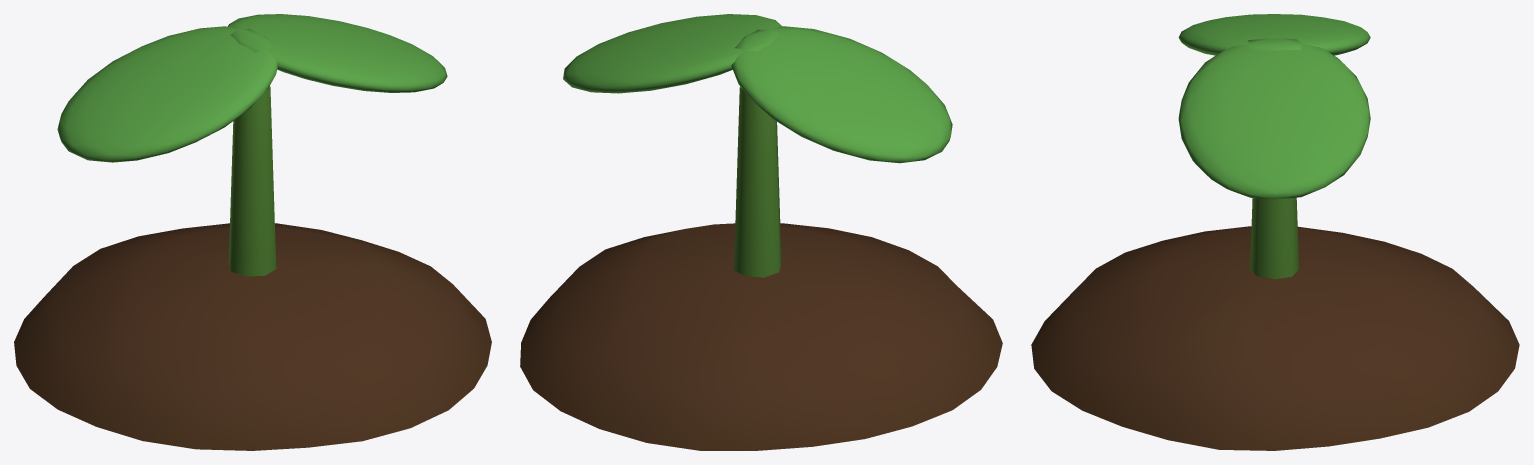
File: sunflower-1.glb
3 renders of one model, left to right at view 1: azimuth 30°, elevation 25°; view 2: azimuth 150°, elevation 25°; view 3: azimuth 270°, elevation 25°, orthographic.
Visible parts, largest first — view 1: sunflower-1; view 2: sunflower-1; view 3: sunflower-1.
Boxes of the visible parts, <box> form: sunflower-1: <box>14,14,491,450</box>; sunflower-1: <box>520,14,1002,450</box>; sunflower-1: <box>1031,14,1519,450</box>.
Size of the model in its own units: 0.3977 by 0.2838 by 0.4063.
